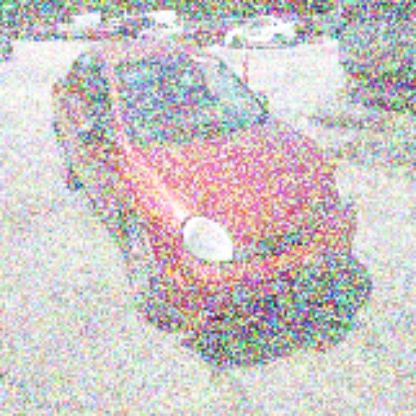Vehicle: (50, 36, 361, 334)
